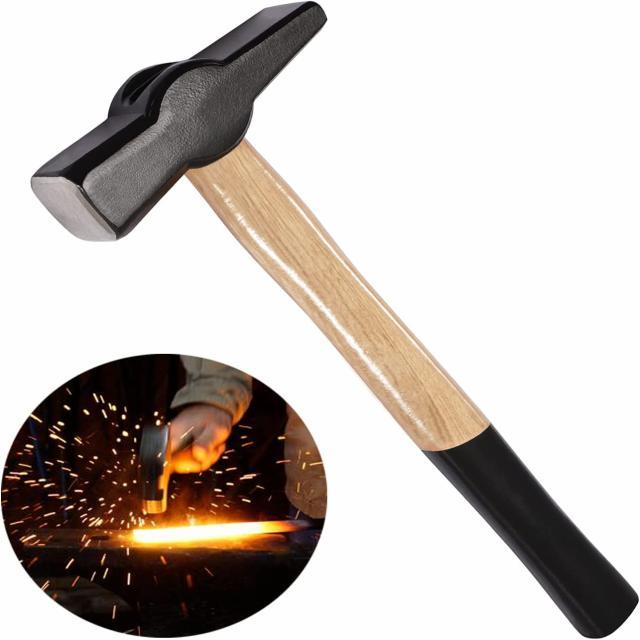hammer: (22, 0, 640, 639), (120, 408, 219, 518)
